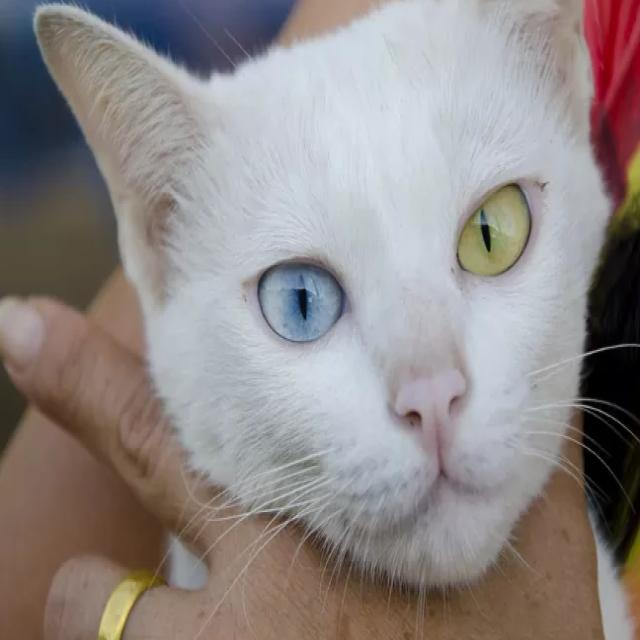Khao Manee: (29, 0, 640, 640)
